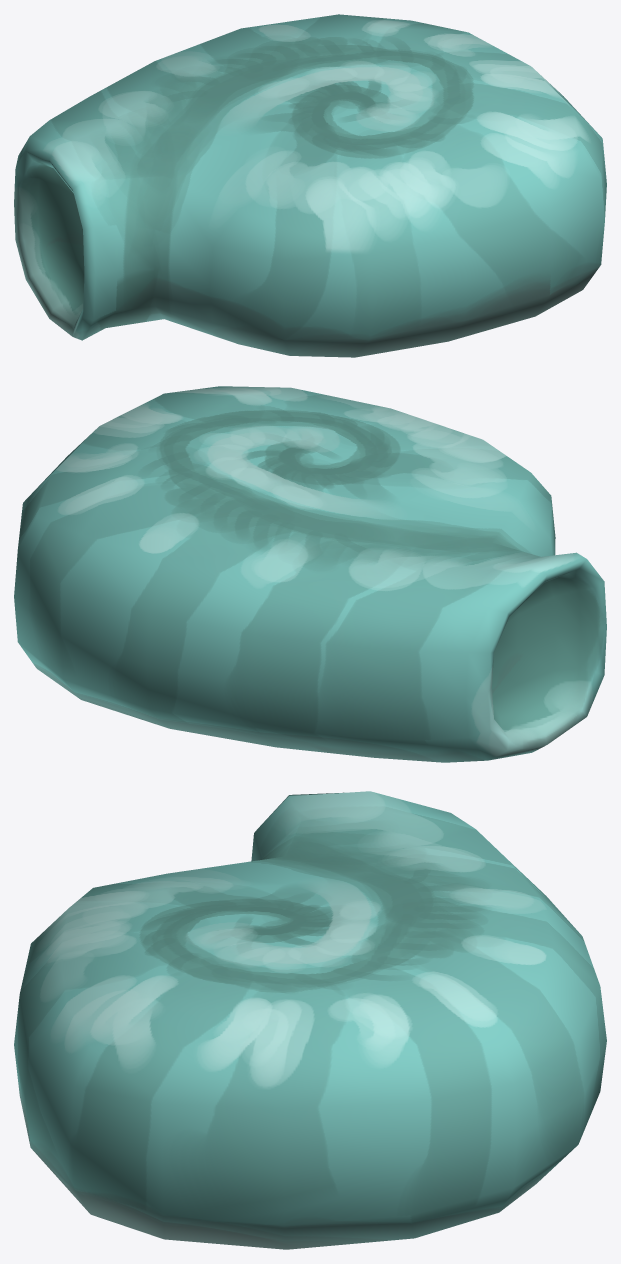
File: Shell02 1.fbx
3 renders of one model, top to bottom at view 1: azimuth 30°, elevation 25°; view 2: azimuth 150°, elevation 25°; view 3: azimuth 270°, elevation 25°, orthographic. The views are drawn at different scales.
Parts seen in each view (by area): view 1: Shell02; view 2: Shell02; view 3: Shell02.
Boxes of the visible parts, x1,y1,x2,y2 form: Shell02: [14, 14, 606, 357]; Shell02: [14, 386, 606, 762]; Shell02: [14, 791, 606, 1249].
Bounding box in the file's own units: 560 × 216 × 486.
Materials: 1 (1 with a texture image).
